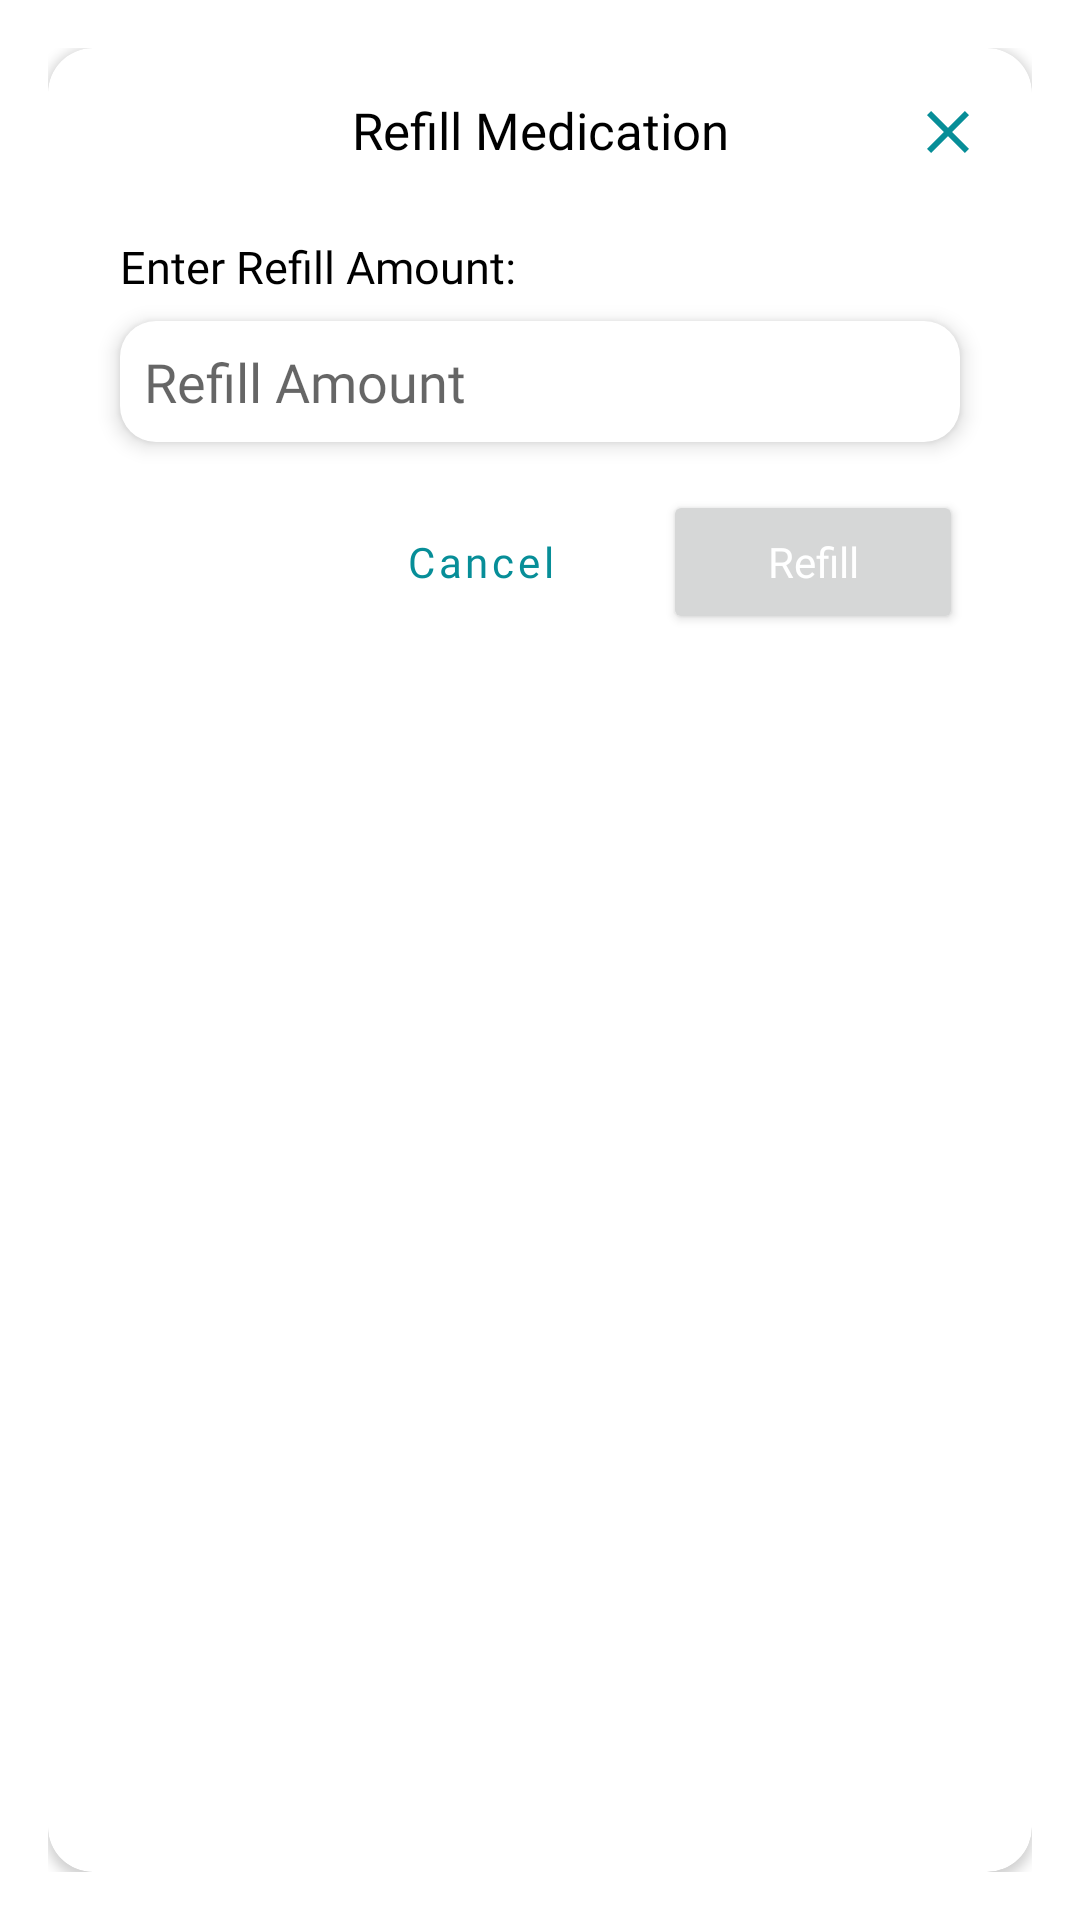

Named icons in this screenshot (1080 x 1920) and their centers, point (x, y):
close: point (948, 132)
